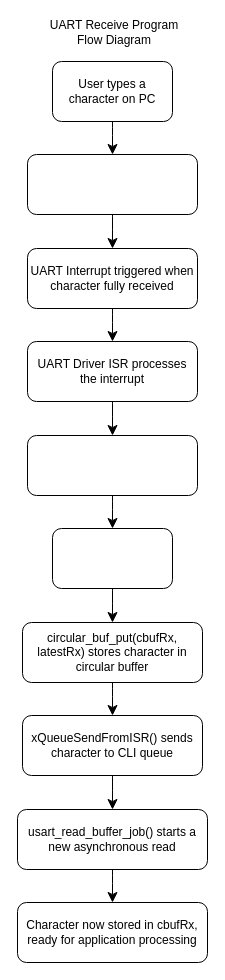
The diagram is 225 pixels wide and 980 high, and some of its shapes have lost their labels. The shapes that lost their labels are listed below. From the top down, each one's centre as x and y in pixels, then its label:
pixel 112 184: UART Hardware(on MCU)receives the bit stream
pixel 112 465: usart_read_callback() function is called
pixel 112 558: Character stored in latestRx variable
